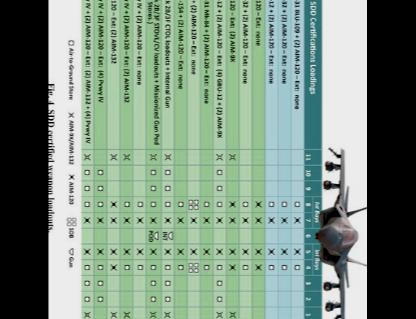F22: (314, 145, 368, 317)
